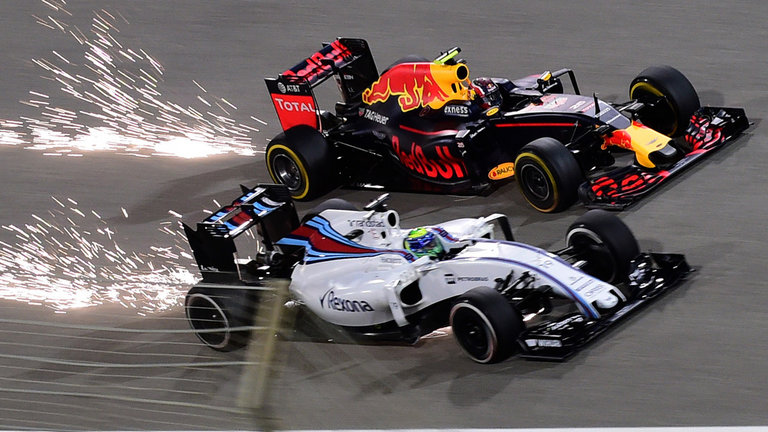race car: (178, 182, 700, 369), (258, 35, 751, 214)
